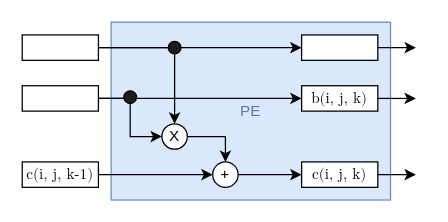
Image size: 448x222. Some labels were removed from this diagram. The shapes that lost their labels are listed below. From the top down, each one's centre as x and y in pixels, then its label:
point 59,47: a(i, j-1, k)
point 339,47: a(i, j, k)
point 59,97: b(i-1, j, k)
